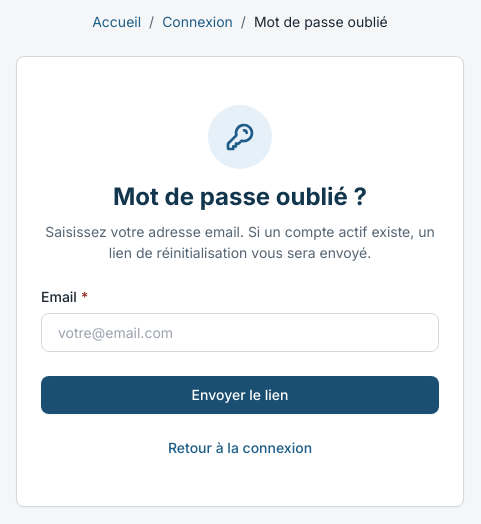
ResetPasswordRequestPage › envoie une demande de reset et affiche la confirmation
This screenshot has width=481, height=524.
In the field labelled "Email*": (240, 332) [41, 312, 439, 352], type "user@test.ci"
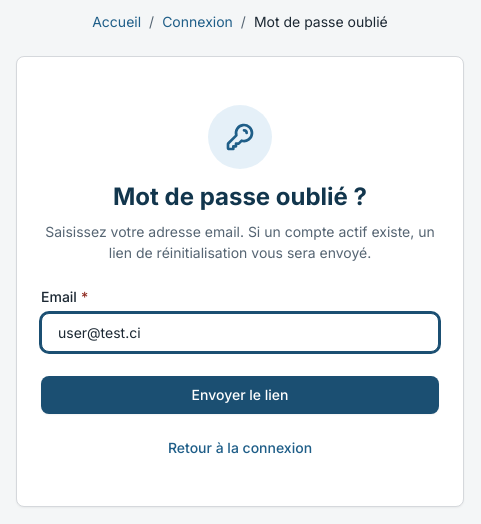
Click the button "Envoyer le lien": click(240, 394) [41, 376, 439, 414]
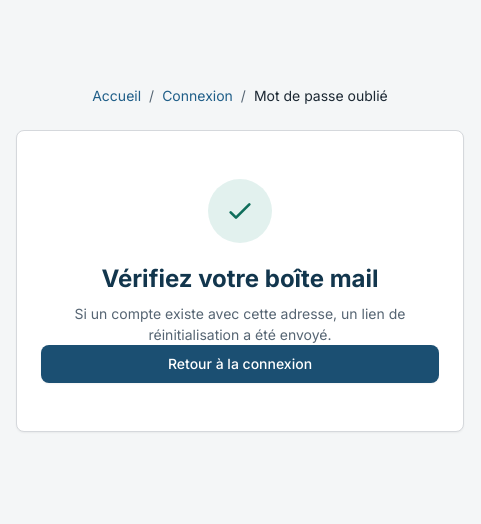
Result: the heading "Vérifiez votre boîte mail" is shown at [102, 264, 378, 293]
